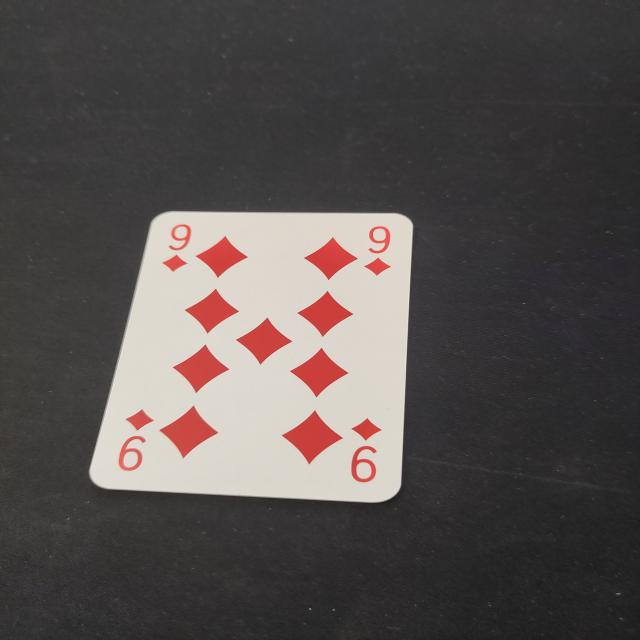9d: (339, 409, 393, 490), (107, 406, 158, 478), (355, 220, 399, 282), (157, 220, 202, 274)
